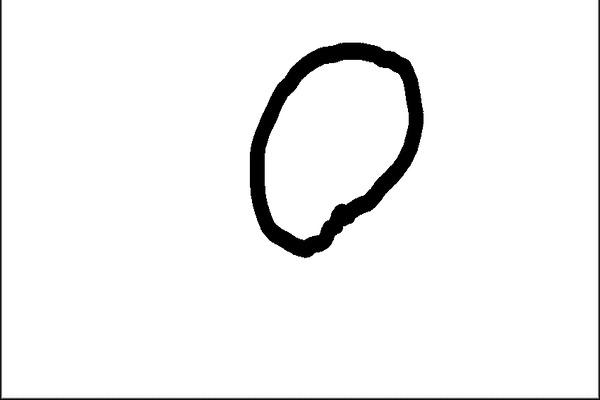O: (226, 36, 431, 262)
